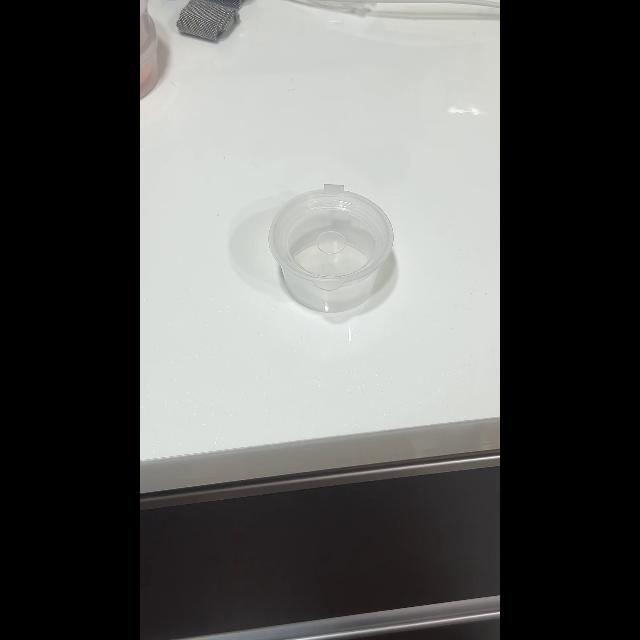clean: (267, 190, 397, 320)
